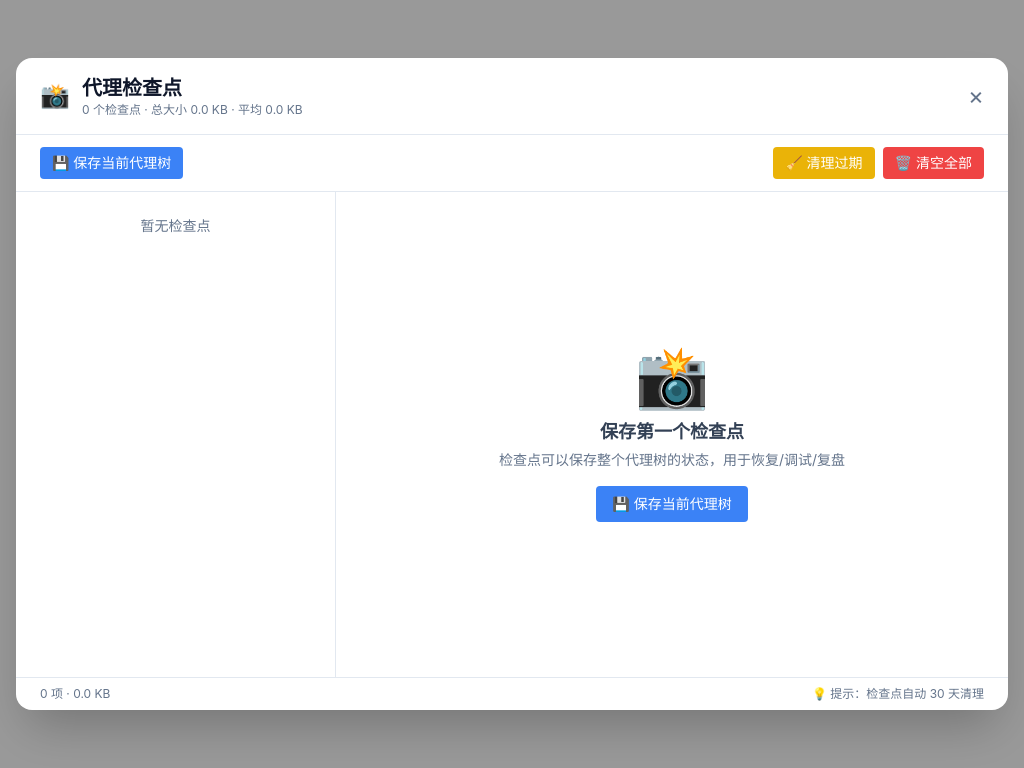
Test: AgentCheckpointPanel › 点击保存按钮显示保存表单
Click the button with test id "save-button" at (112, 163), box [40,147,183,179]
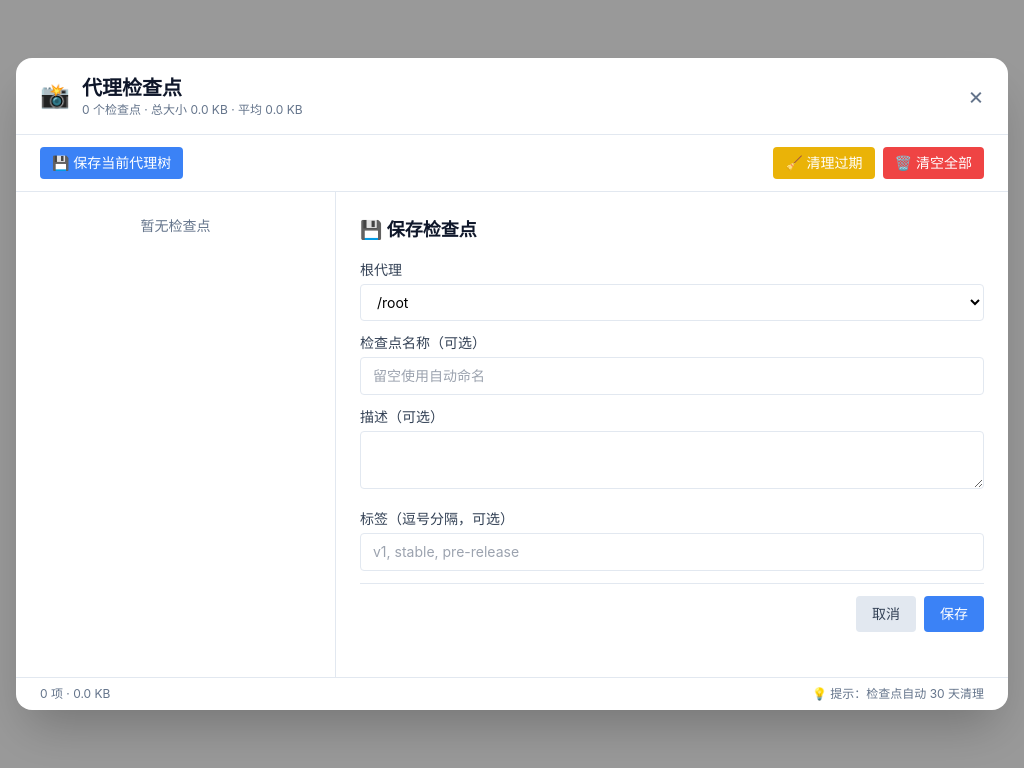
Expected: the element with test id "save-form" is shown, [336,192,1008,677]
